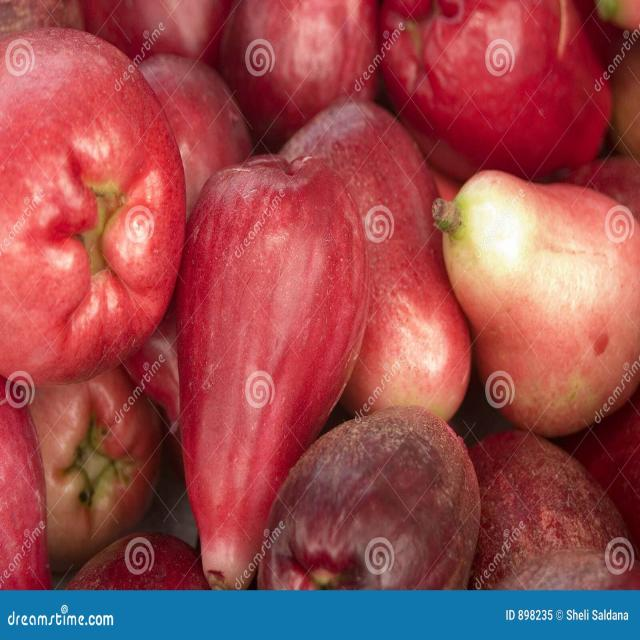manzana: (158, 135, 384, 586)
